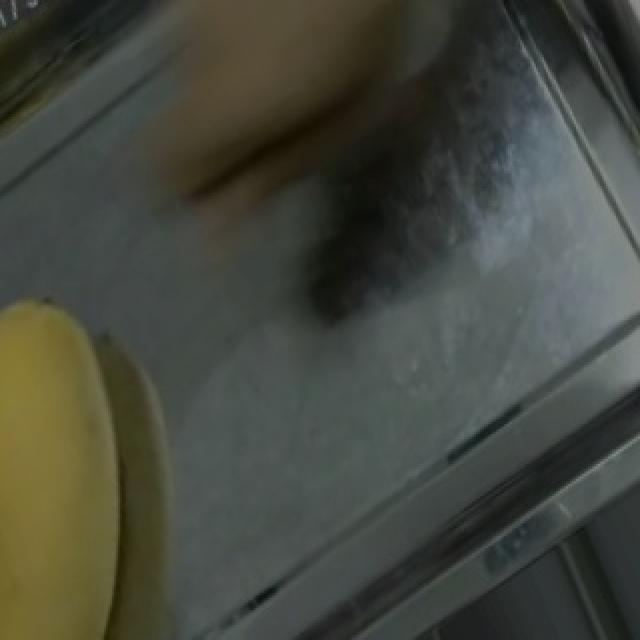fruit: (96, 0, 492, 248), (0, 268, 228, 640)
